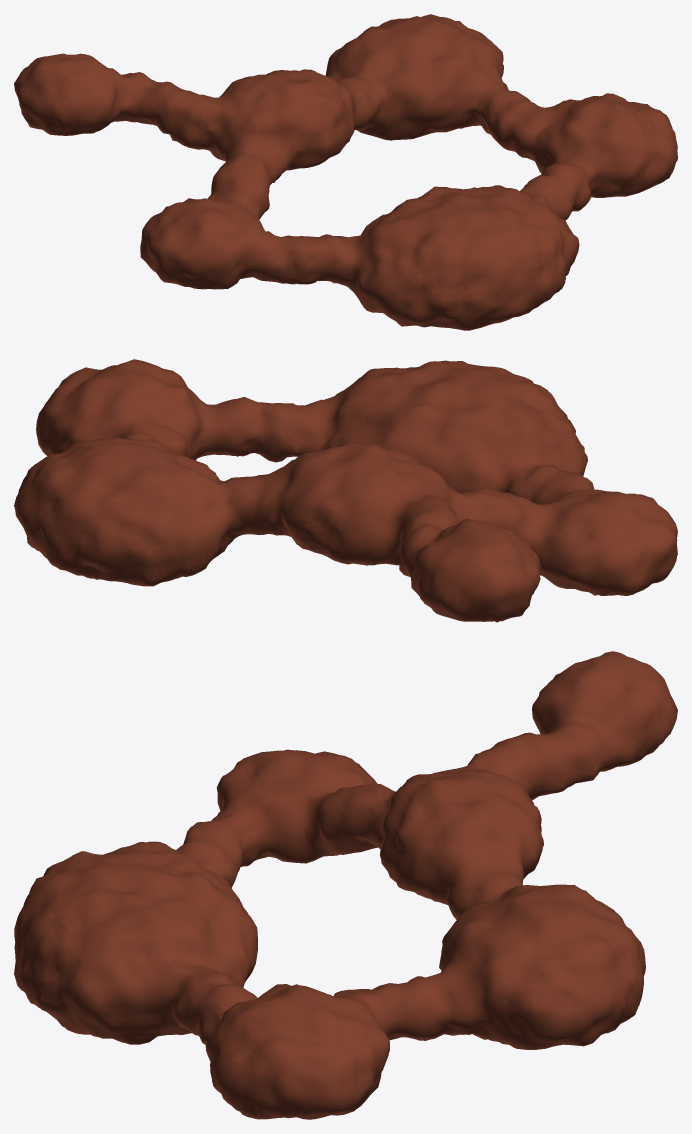
File: cave_f3.glb
3 renders of one model, top to bottom at view 1: azimuth 30°, elevation 25°; view 2: azimuth 150°, elevation 25°; view 3: azimuth 270°, elevation 25°, orthographic. The views are drawn at different scales.
Parts seen in each view (by area): view 1: cave_f3; view 2: cave_f3; view 3: cave_f3.
Part boxes in pixels (x1,y1,x2,y2): cave_f3: [14, 14, 677, 330]; cave_f3: [14, 359, 677, 622]; cave_f3: [14, 651, 677, 1119].
Bounding box in the file's own units: 75.96 × 21.67 × 64.83.
